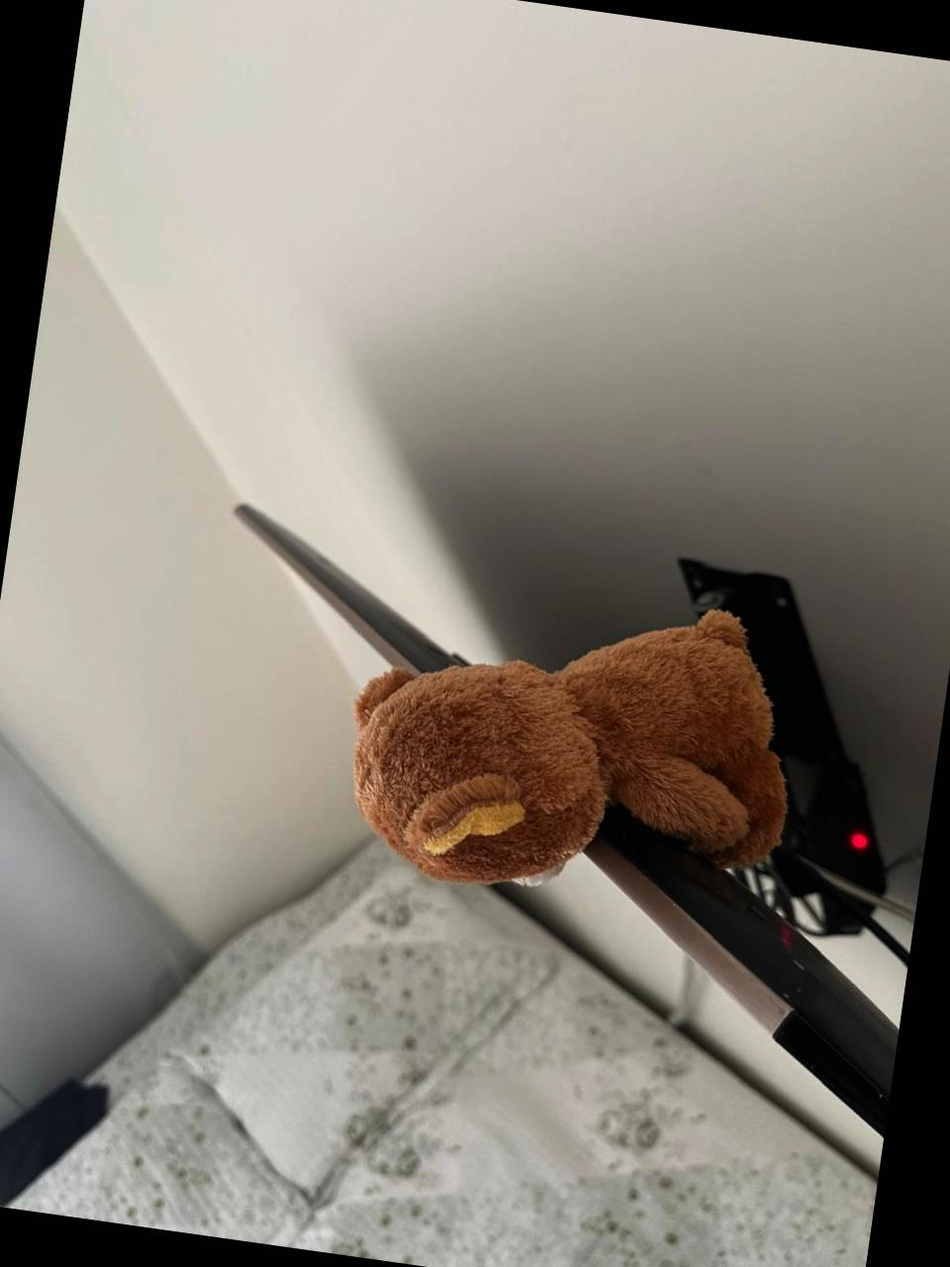peluche_sebastian: (326, 559, 826, 922)
